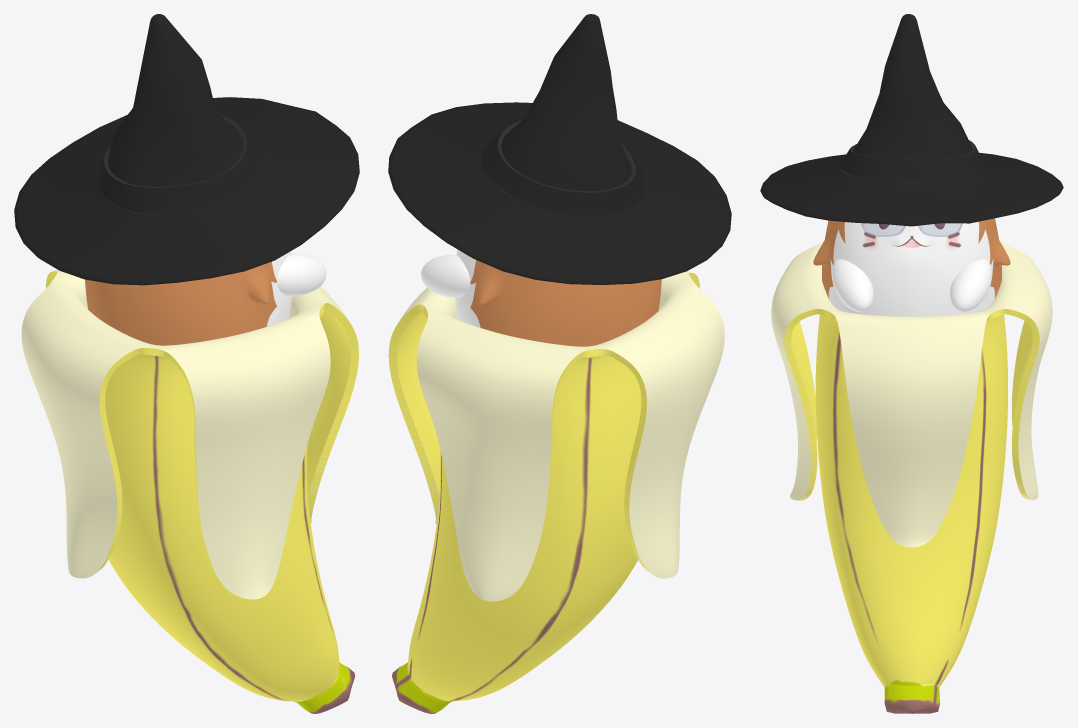
Rendered from halloweenNyath.glb.
The picture shows the model from 3 angles, left to right: view 1: azimuth 30°, elevation 25°; view 2: azimuth 150°, elevation 25°; view 3: azimuth 270°, elevation 25°; orthographic projection. The views are drawn at different scales.
Parts seen in each view (by area): view 1: banana.001, Hat.001, cato orelha escondida.001, patas.001; view 2: banana.001, Hat.001, cato orelha escondida.001, patas.001; view 3: banana.001, Hat.001, cato orelha escondida.001, patas.001, lente nova.001.
Part boxes in pixels (x1,y1,x2,y2): banana.001: [21, 269, 358, 713]; Hat.001: [14, 14, 359, 285]; cato orelha escondida.001: [85, 251, 291, 345]; patas.001: [277, 253, 326, 296]; banana.001: [388, 271, 724, 713]; Hat.001: [388, 14, 731, 284]; cato orelha escondida.001: [455, 249, 661, 346]; patas.001: [421, 255, 470, 297]; banana.001: [771, 241, 1052, 713]; Hat.001: [760, 14, 1063, 226]; cato orelha escondida.001: [813, 218, 1010, 316]; patas.001: [832, 259, 991, 312]; lente nova.001: [863, 223, 959, 234].
Size of the model in its own units: 4.43 by 9.76 by 4.24.
Materials: 8 (3 with a texture image).
